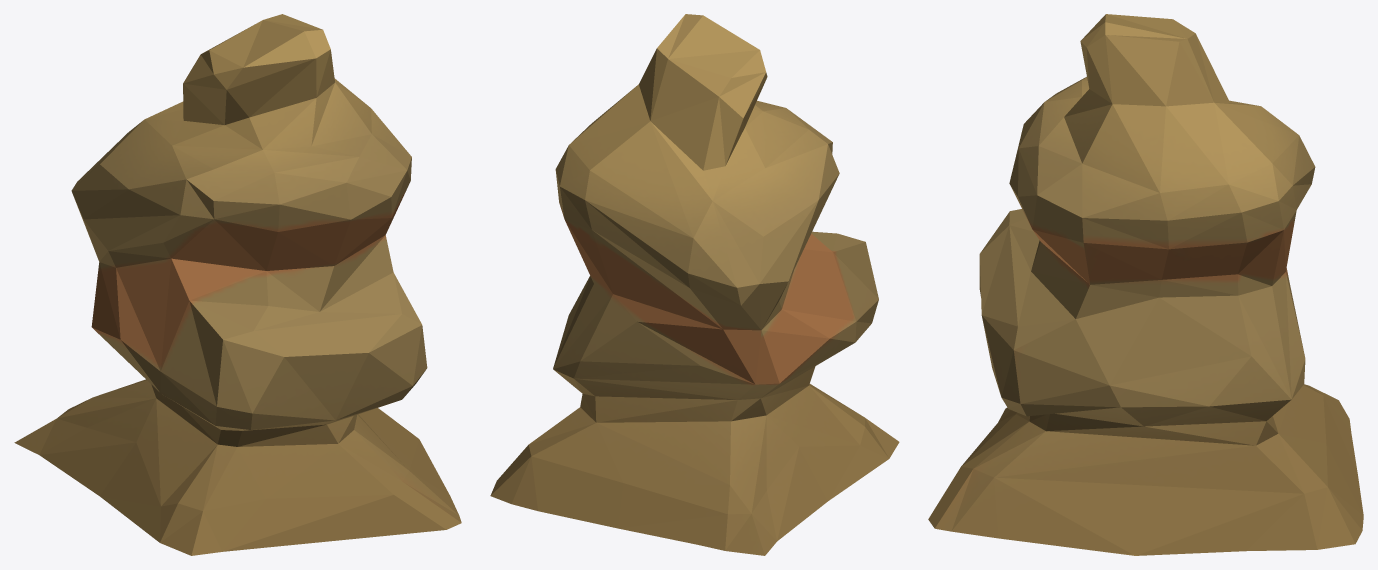
Rendered from Rock 3.fbx.
3 views of the same model, side by side, from view 1: azimuth 30°, elevation 25°; view 2: azimuth 150°, elevation 25°; view 3: azimuth 270°, elevation 25° (orthographic). The views are drawn at different scales.
Parts seen in each view (by area): view 1: Canyon_Rock; view 2: Canyon_Rock; view 3: Canyon_Rock.
Boxes of the visible parts, bbox=[...] form: Canyon_Rock: bbox=[14, 14, 461, 555]; Canyon_Rock: bbox=[490, 14, 899, 555]; Canyon_Rock: bbox=[928, 14, 1363, 555].
Size of the model in its own units: 44.87 by 62.78 by 52.93.
Materials: 1 (1 with a texture image).
